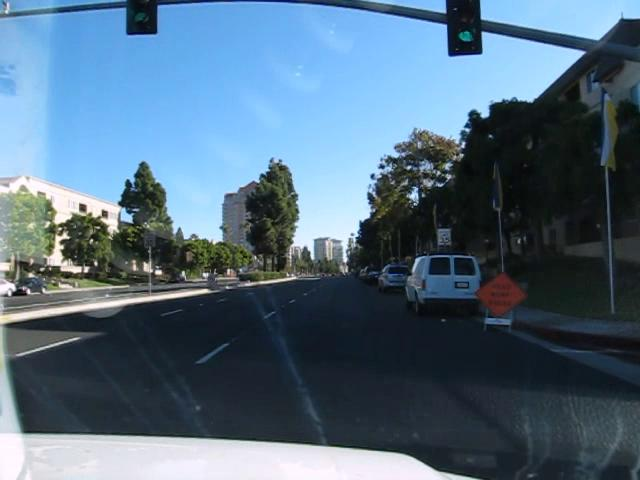speedLimit35: (436, 227, 452, 246)
